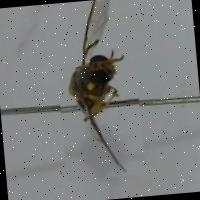Oriental-fruit-fly: (51, 0, 145, 181)
